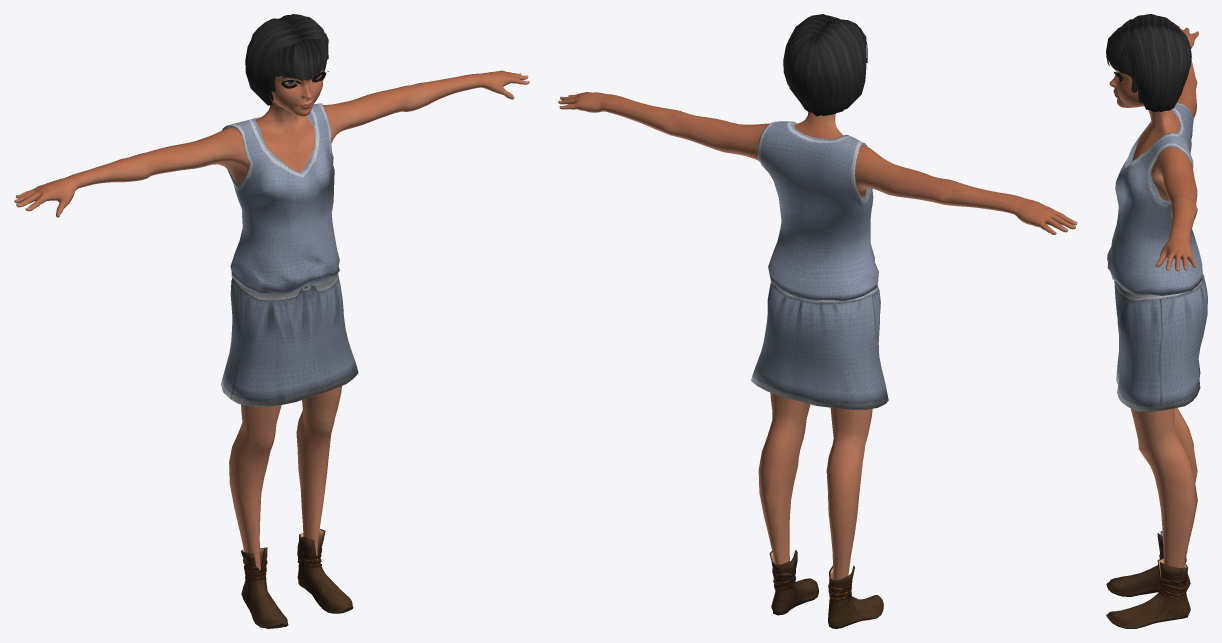
Rendered from child1.obj.
The picture shows the model from 3 angles, left to right: view 1: azimuth 30°, elevation 25°; view 2: azimuth 150°, elevation 25°; view 3: azimuth 270°, elevation 25°; orthographic projection.
Visible parts, largest first — view 1: Body, Tops, Bottoms, Hair, Shoes; view 2: Body, Tops, Bottoms, Hair, Shoes; view 3: Body, Bottoms, Tops, Hair, Shoes.
Boxes of the visible parts, x1,y1,x2,y2 form: Body: (14,69,529,570); Tops: (222,103,339,294); Bottoms: (221,274,358,406); Hair: (245,14,328,105); Shoes: (241,529,353,628); Body: (558,92,1077,580); Tops: (757,121,878,300); Bottoms: (751,282,888,409); Hair: (783,14,867,116); Shoes: (769,550,883,628); Body: (1109,26,1198,568); Bottoms: (1114,273,1207,411); Tops: (1107,102,1202,295); Hair: (1106,14,1191,112); Shoes: (1106,531,1190,628).
Size of the model in its own units: 155 by 171 by 27.02.
5 materials, 5 textured.
